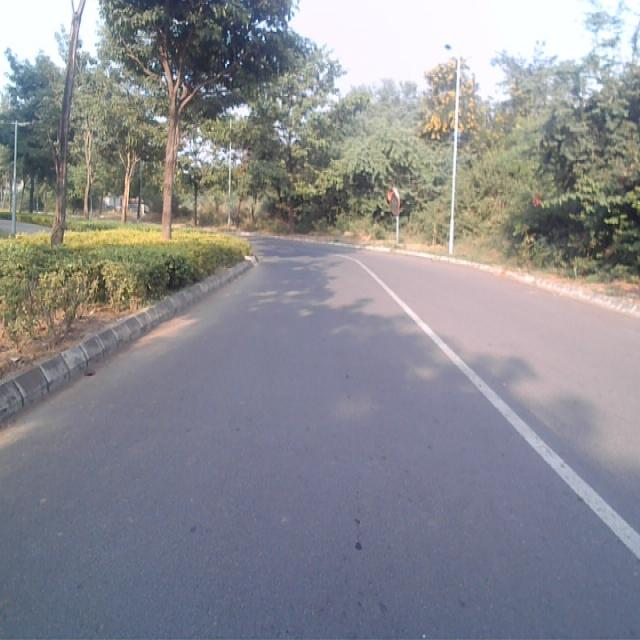lane: (0, 253, 640, 640)
